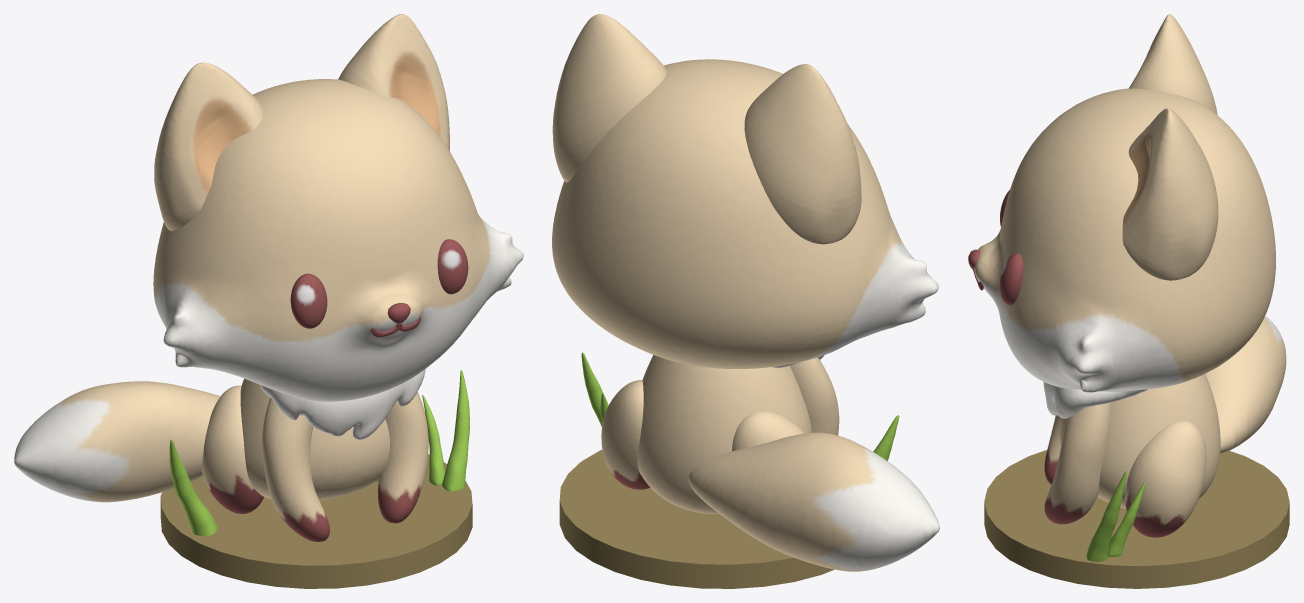
File: fox-transformed.glb
The picture shows the model from 3 angles, left to right: view 1: azimuth 30°, elevation 25°; view 2: azimuth 150°, elevation 25°; view 3: azimuth 270°, elevation 25°; orthographic projection. The views are drawn at different scales.
Visible parts, largest first — view 1: Object_15, Object_3, Object_25, Object_11, Object_21; view 2: Object_3, Object_15, Object_25; view 3: Object_15, Object_3, Object_25, Object_11.
Boxes of the visible parts, x1,y1,x2,y2 form: Object_15: (153, 79, 523, 401); Object_3: (14, 14, 469, 541); Object_25: (160, 454, 472, 588); Object_11: (290, 239, 468, 328); Object_21: (169, 439, 216, 535); Object_3: (552, 14, 939, 571); Object_15: (552, 59, 938, 368); Object_25: (559, 450, 833, 588); Object_15: (974, 88, 1275, 392); Object_3: (968, 14, 1286, 561); Object_25: (984, 450, 1289, 588); Object_11: (1000, 190, 1023, 305).
Size of the model in its own units: 3.53 by 3.67 by 2.31.
